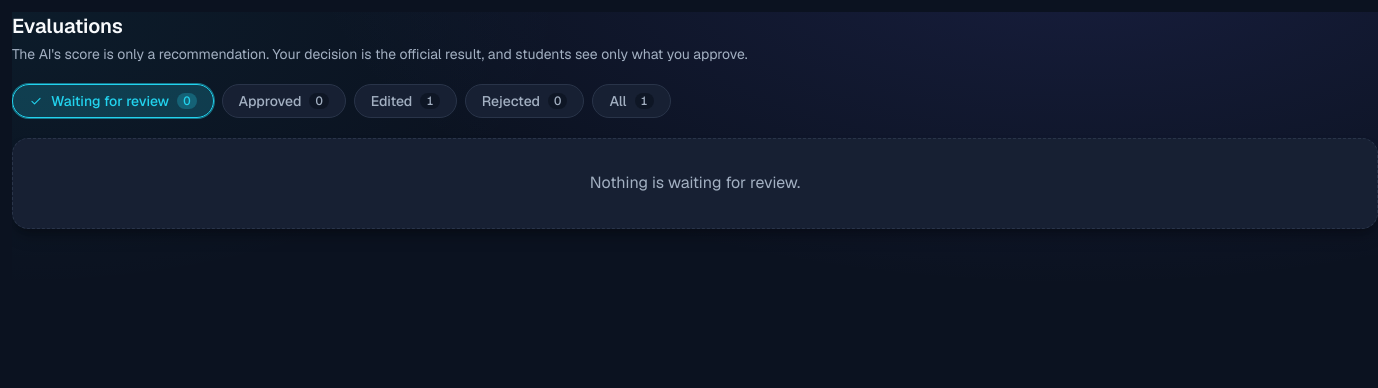
Test: FacultyQueue › decided weeks say View instead of Review
Click the button "Edited 1". click: [405, 101]
box: [354,84,457,118]
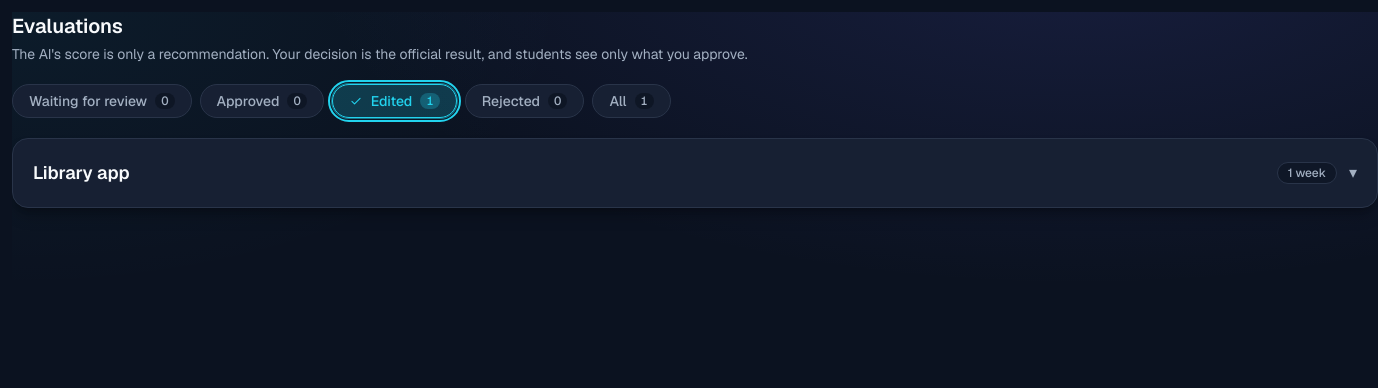
Click the text "Library app". click: [81, 173]
box: [33,159,130,187]
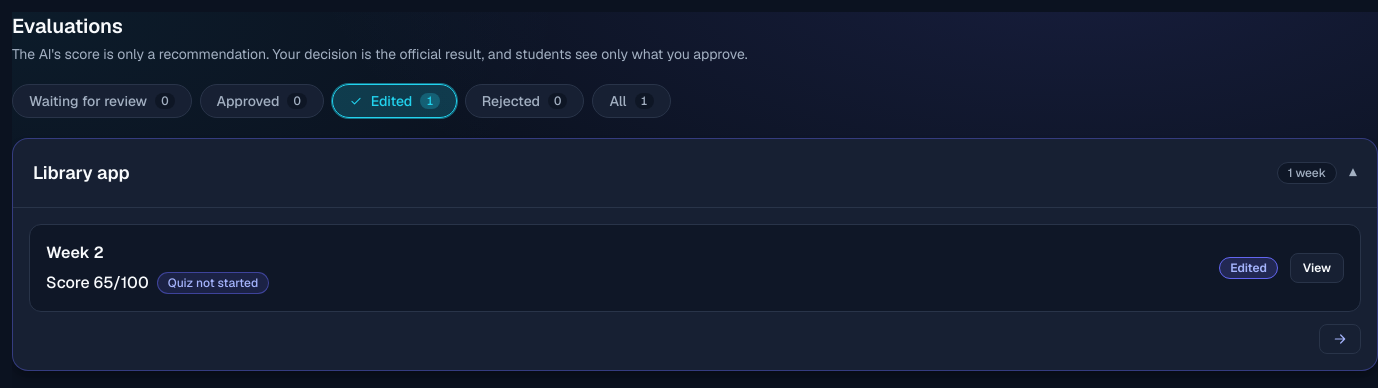
expect the link "View" is shown: met, box [1290,253,1344,283]
